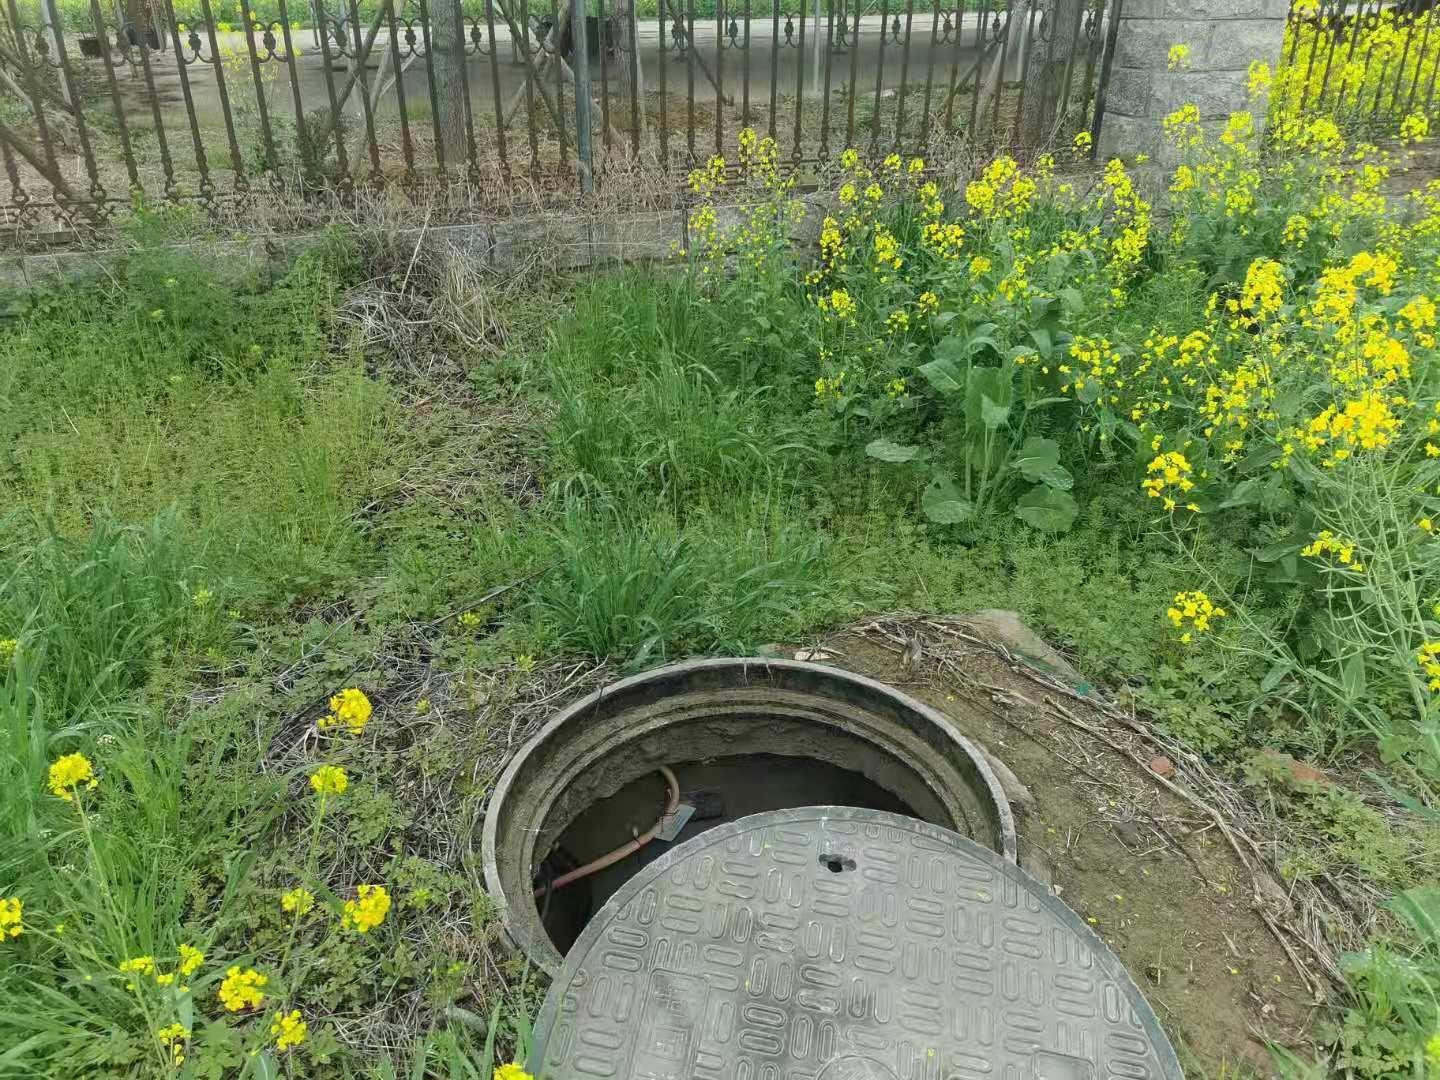wellcover: (475, 652, 1223, 1080)
